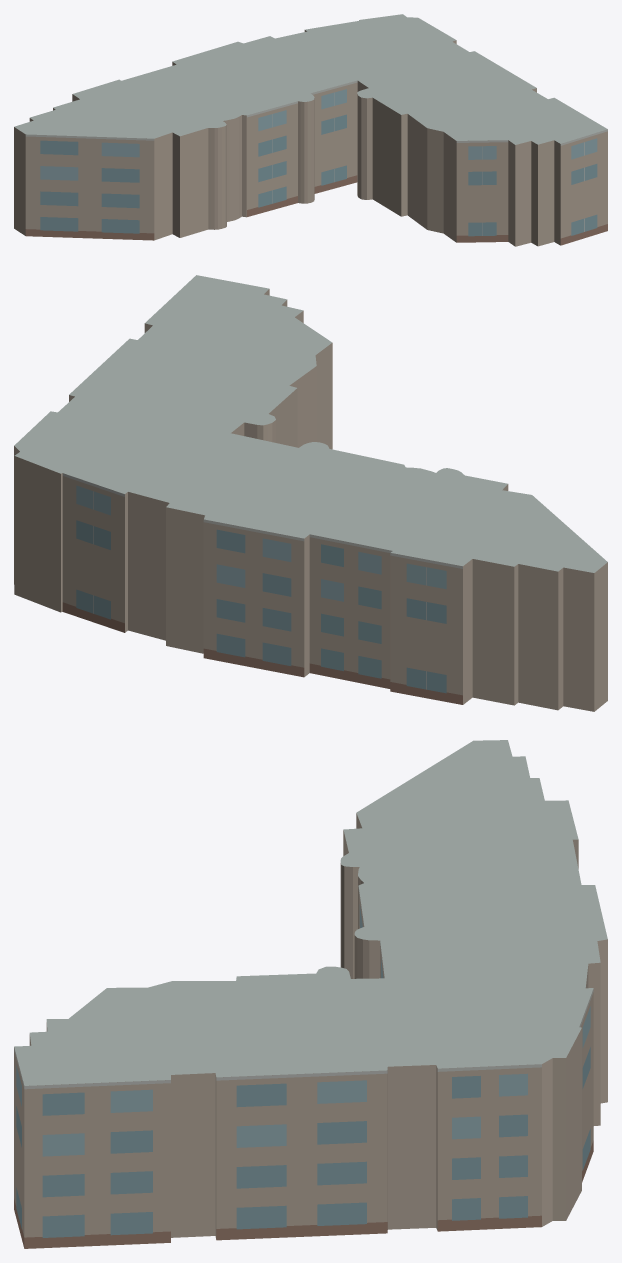
Rendered from survey-upis-32832938.glb.
The picture shows the model from 3 angles, top to bottom: view 1: azimuth 30°, elevation 25°; view 2: azimuth 150°, elevation 25°; view 3: azimuth 270°, elevation 25°; orthographic projection. The views are drawn at different scales.
Parts seen in each view (by area): view 1: survey-upis-32832938.tmp; view 2: survey-upis-32832938.tmp; view 3: survey-upis-32832938.tmp.
Part boxes in pixels (x1,y1,x2,y2): survey-upis-32832938.tmp: (14,14,607,246); survey-upis-32832938.tmp: (14,275,607,711); survey-upis-32832938.tmp: (14,740,607,1248).
Bounding box in the file's own units: 55.57 × 12.2 × 40.31.
